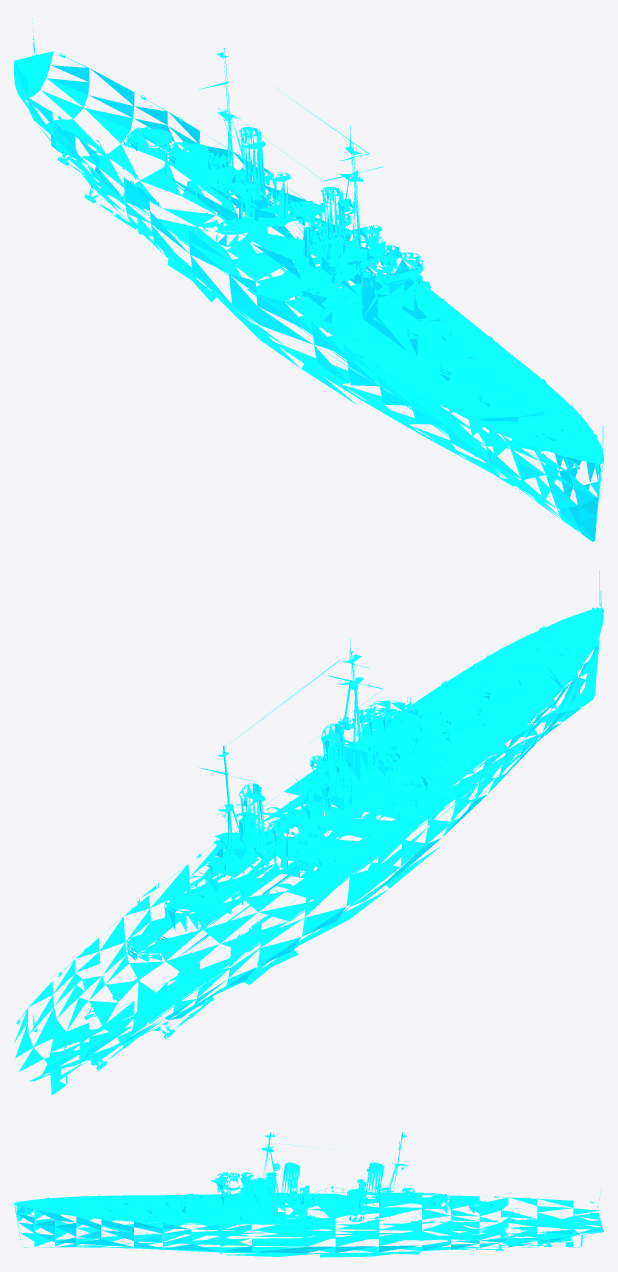
Rendered from Minotaur.glb.
The picture shows the model from 3 angles, top to bottom: view 1: azimuth 30°, elevation 25°; view 2: azimuth 150°, elevation 25°; view 3: azimuth 270°, elevation 25°; orthographic projection. The views are drawn at different scales.
Bounding box in the file's own units: 1.57 × 2.9 × 12.63.
